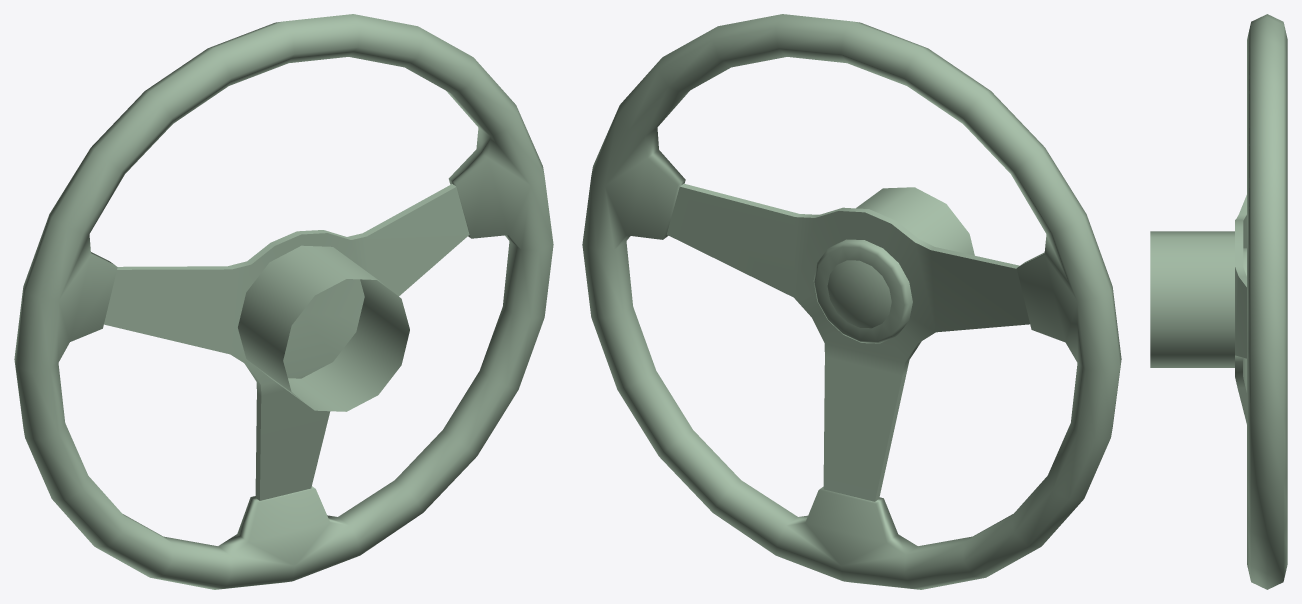
The model's file is AdamLZ_E36_Inside_Steeringwheel.fbx.
3 renders of one model, left to right at view 1: azimuth 30°, elevation 25°; view 2: azimuth 150°, elevation 25°; view 3: azimuth 270°, elevation 25°, orthographic. The views are drawn at different scales.
Visible parts, largest first — view 1: AdamLZ_E36_Inside_Steeringwheel; view 2: AdamLZ_E36_Inside_Steeringwheel; view 3: AdamLZ_E36_Inside_Steeringwheel.
Part boxes in pixels (x1=…): AdamLZ_E36_Inside_Steeringwheel: x1=14, y1=14, x2=553, y2=589; AdamLZ_E36_Inside_Steeringwheel: x1=582, y1=14, x2=1121, y2=589; AdamLZ_E36_Inside_Steeringwheel: x1=1150, y1=14, x2=1287, y2=589.
Bounding box in the file's own units: 33.93 × 33.93 × 8.06.
